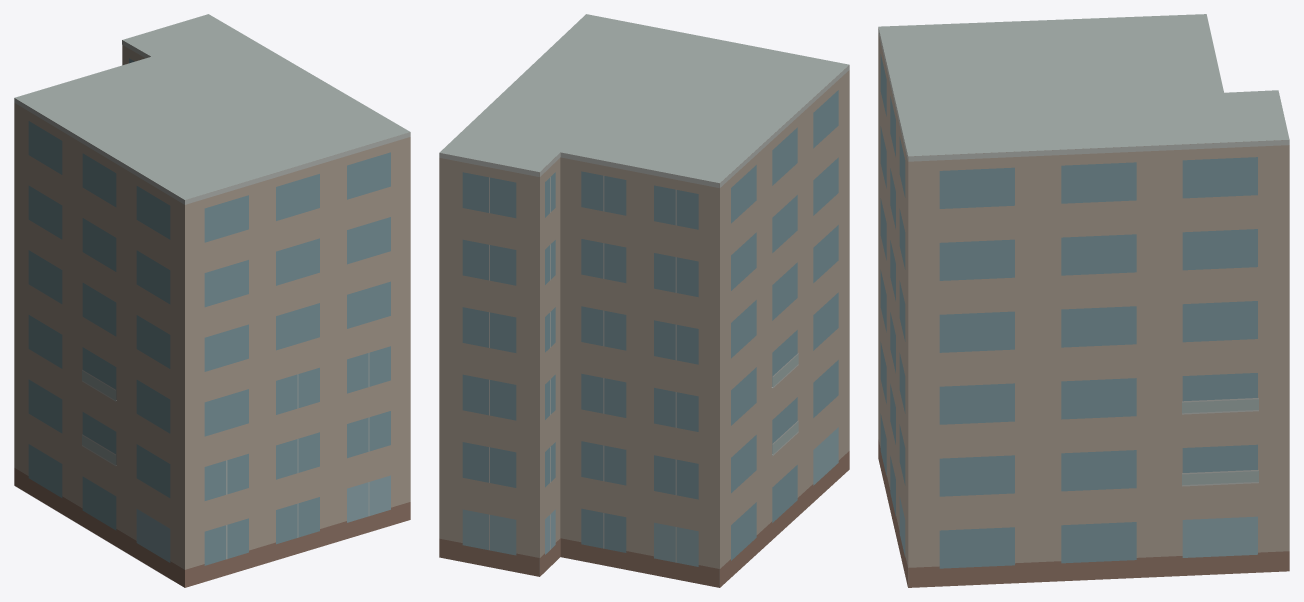
Rendered from survey-upis-32852001.glb.
The picture shows the model from 3 angles, left to right: view 1: azimuth 30°, elevation 25°; view 2: azimuth 150°, elevation 25°; view 3: azimuth 270°, elevation 25°; orthographic projection. The views are drawn at different scales.
Visible parts, largest first — view 1: survey-upis-32852001.tmp; view 2: survey-upis-32852001.tmp; view 3: survey-upis-32852001.tmp.
Part boxes in pixels (bbox=[...]): survey-upis-32852001.tmp: bbox=[14, 14, 410, 587]; survey-upis-32852001.tmp: bbox=[439, 14, 849, 587]; survey-upis-32852001.tmp: bbox=[878, 14, 1289, 587].
Bounding box in the file's own units: 13.95 × 19.7 × 17.03.
